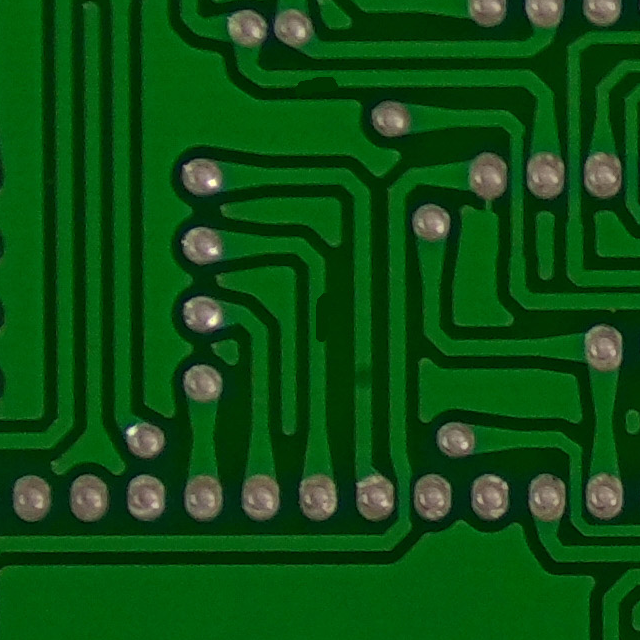mouse_bite: (302, 283, 338, 358), (285, 63, 348, 97)
